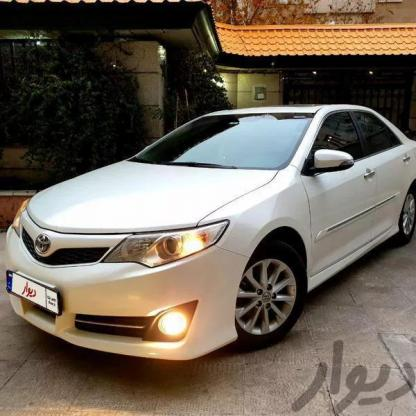Car: (0, 99, 416, 364)
